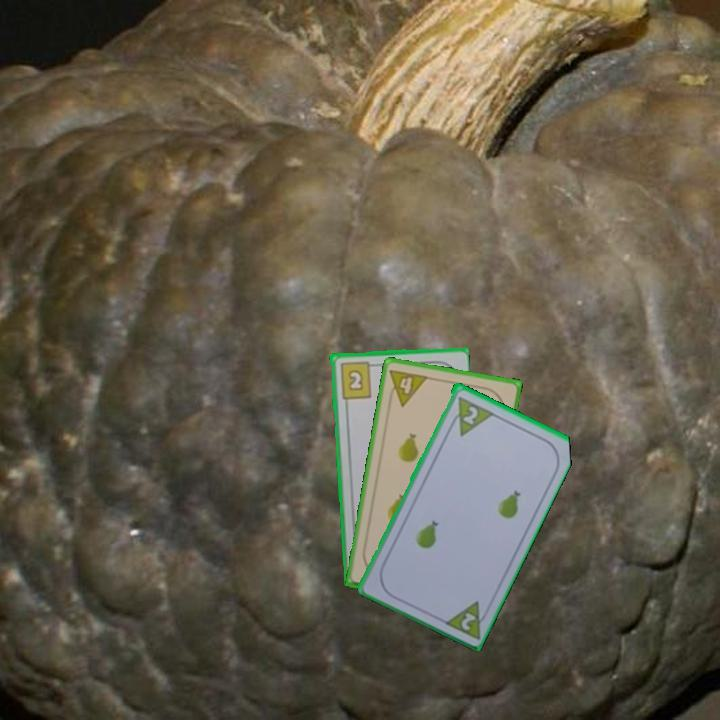2b: (336, 358, 378, 401)
2p: (444, 392, 495, 438), (457, 608, 479, 633)
4p: (384, 365, 431, 409)
